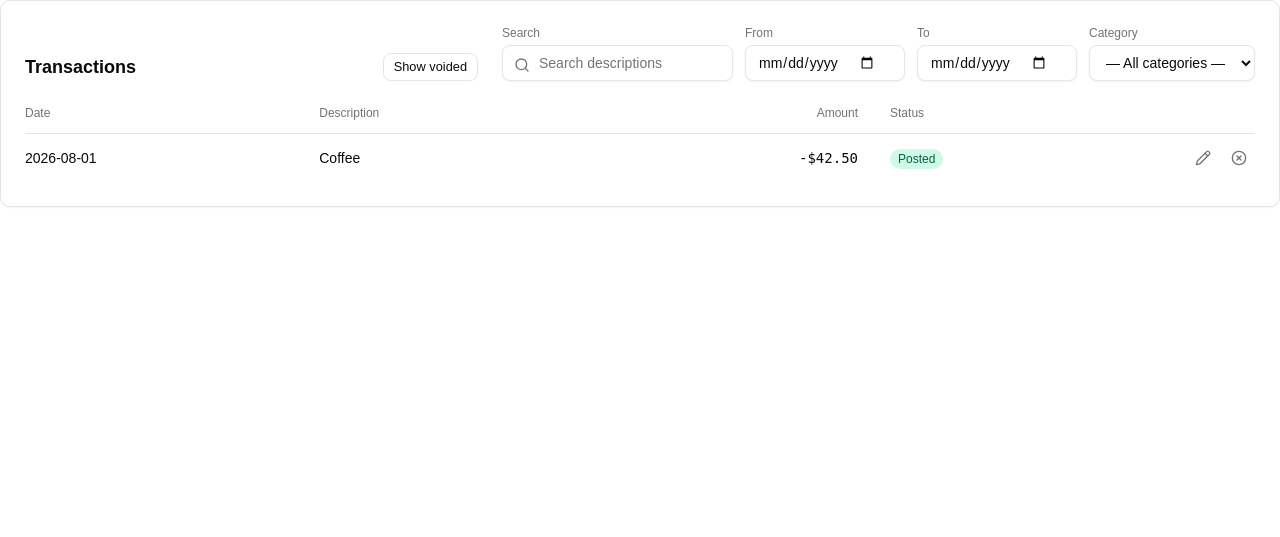
Test: TransactionList › shows the edit form when a transaction's edit button is clicked
This screenshot has width=1280, height=537.
Click the button named "edit" at (1203, 158), box x1=1187 y1=142 x2=1219 y2=174
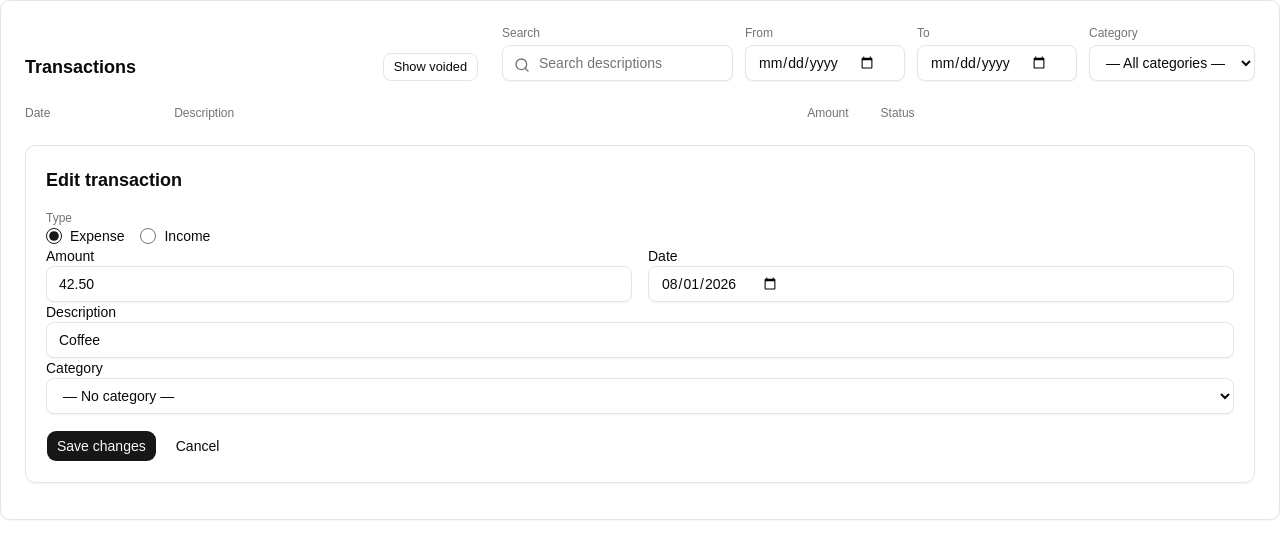
Check: the field labelled "Description" holds "Coffee", box x1=46 y1=322 x2=1234 y2=358
Check: the button "Save changes" is shown, box x1=46 y1=430 x2=157 y2=462
